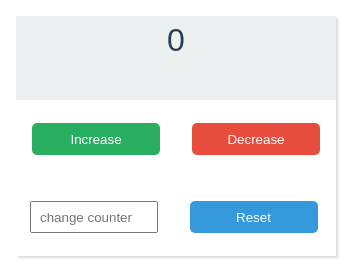
"Reset" Button E2E tests › Should reset screen value to 0, after click "Decrease" button one time
Click the button with class "decreaseBtn".
click(256, 139)  # box [192,123,320,155]
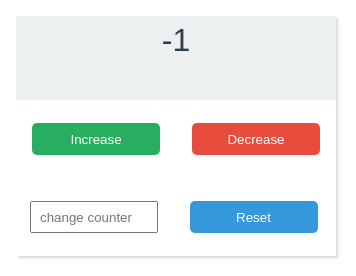
Click the button with class "resetBtn".
click(254, 217)  # box [190,201,318,233]
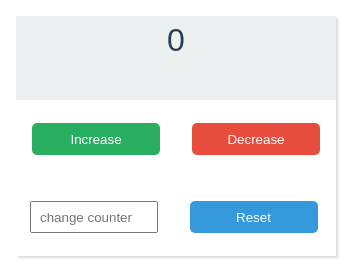
Check: the text "0" is shown, box [16,16,336,100]
